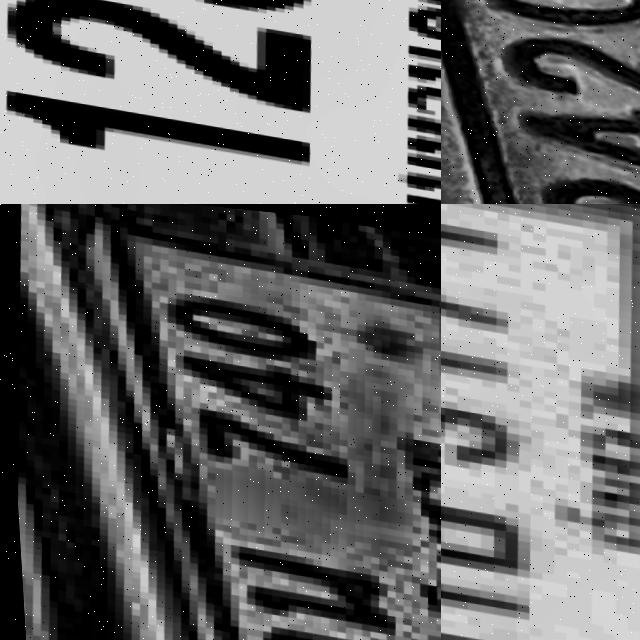license-plate: (20, 204, 441, 640), (0, 0, 441, 204), (441, 204, 640, 640), (441, 0, 640, 204)
